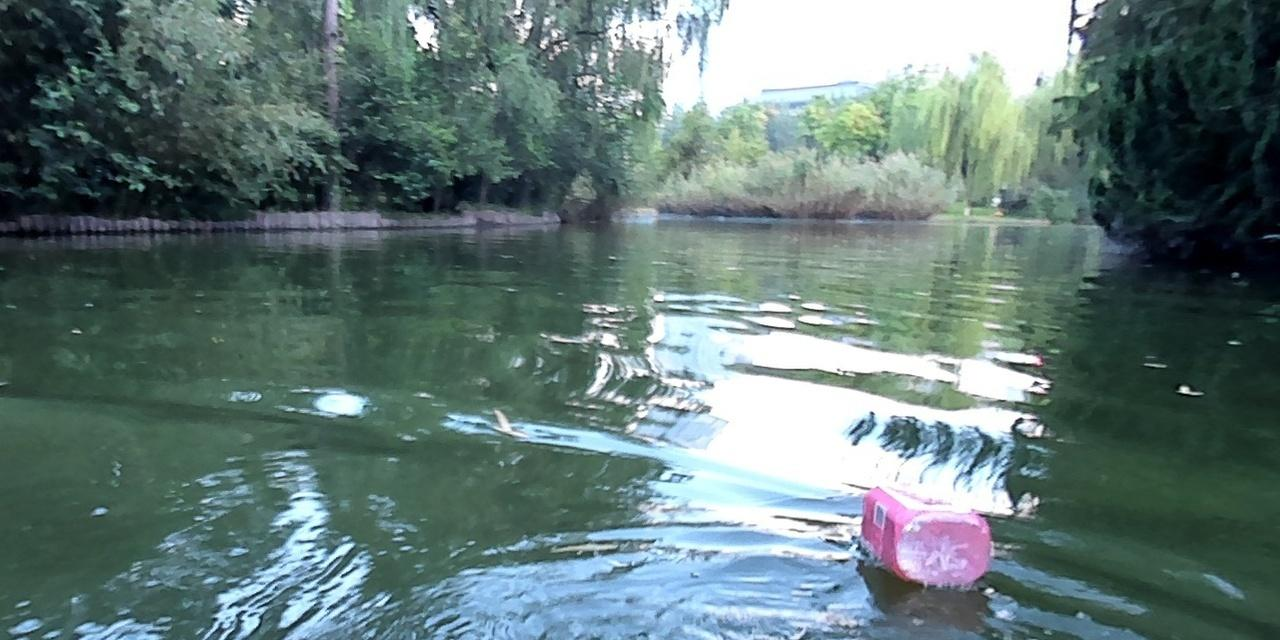bottle: (860, 474, 992, 586)
